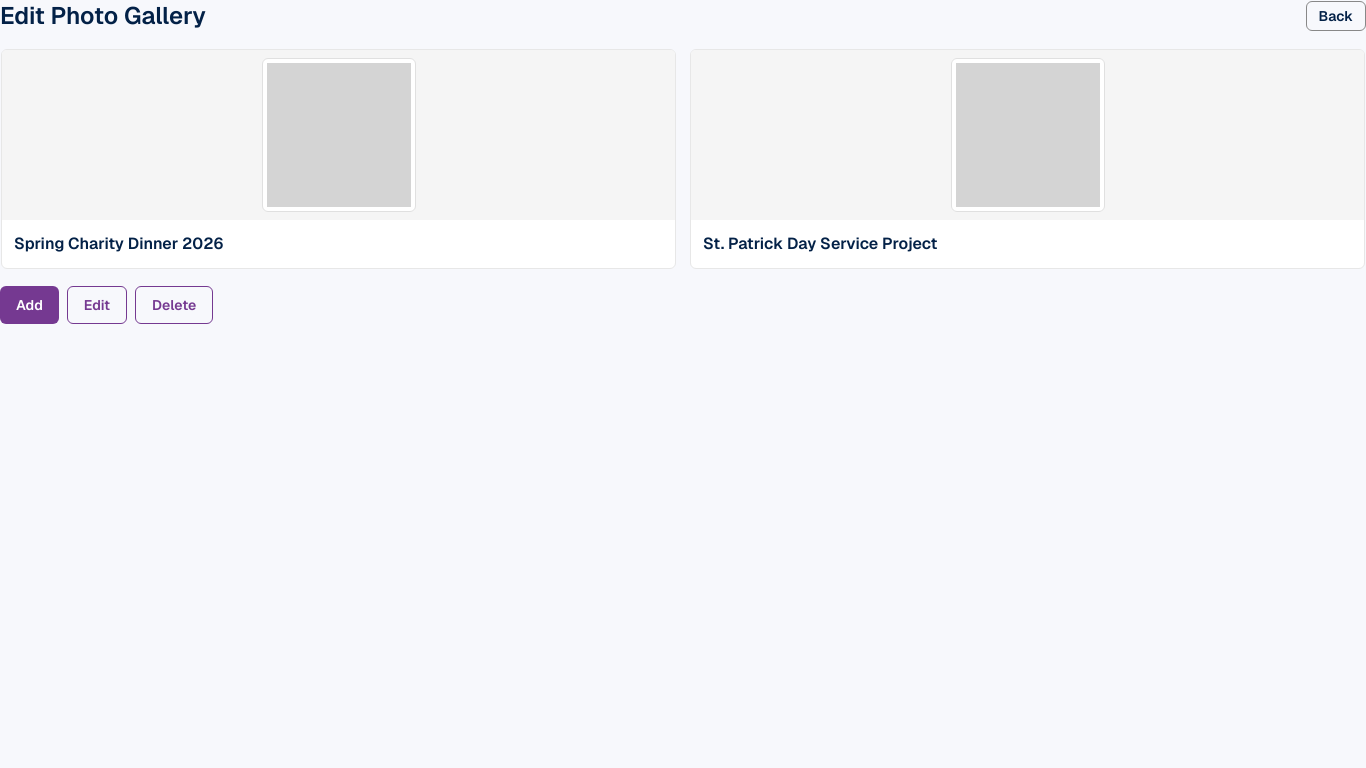
Test: PhotoGalleryUpdate › Edit pre-fills the form and saves via API
Expected: the text "Spring Charity Dinner 2026" is shown, x1=14 y1=233 x2=223 y2=254
Click the button with aria-label "Select photo Spring Charity Dinner 2026".
click(338, 159)  # box x1=0 y1=48 x2=677 y2=270
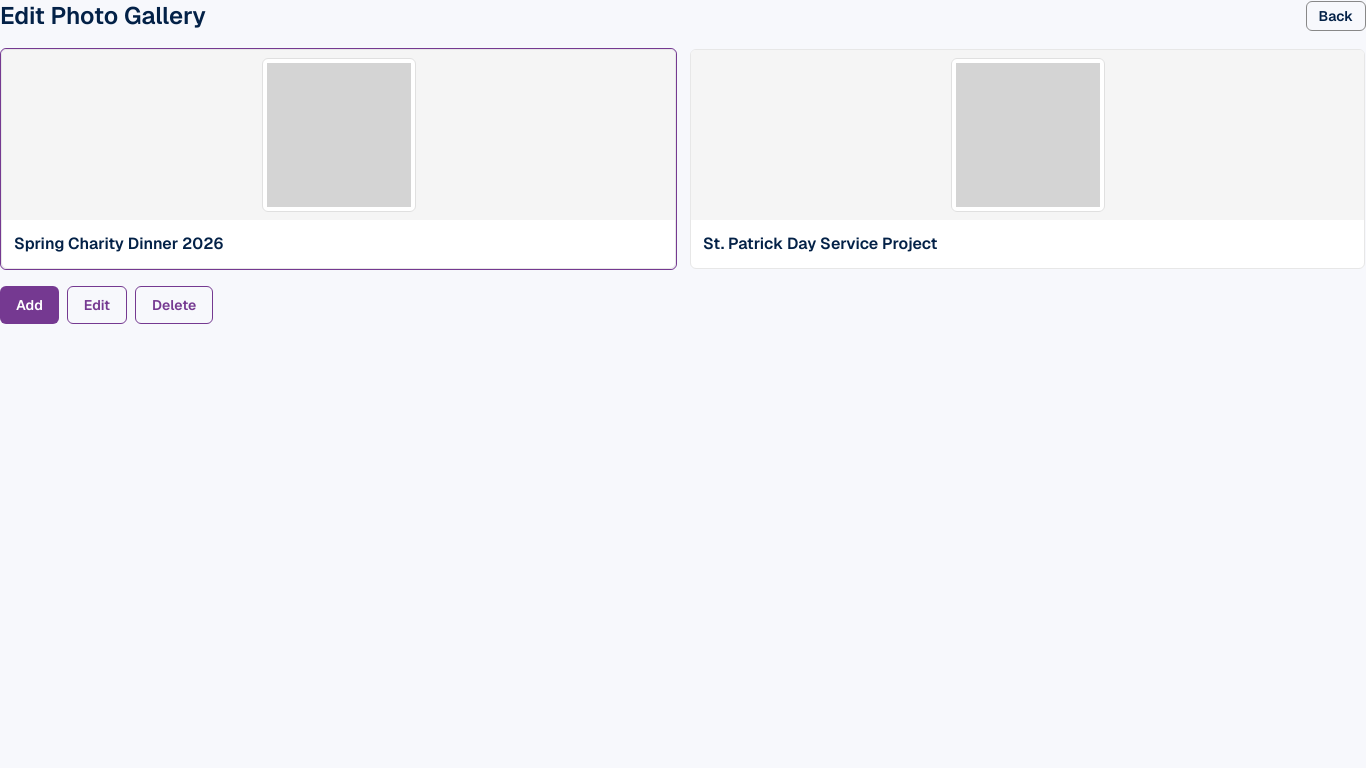
Click the button "Edit".
click(97, 305)  # box x1=67 y1=286 x2=127 y2=324
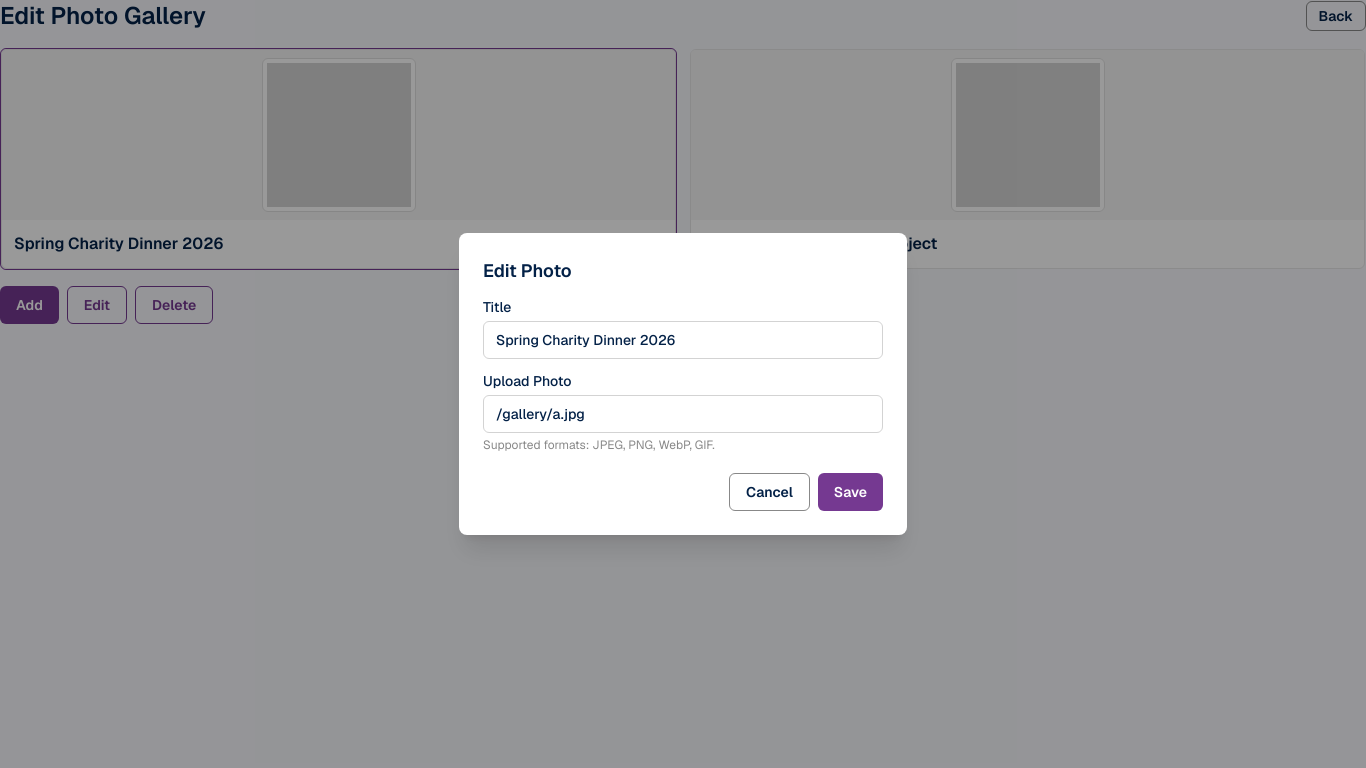
Result: the field showing "Spring Charity Dinner 2026" is shown
Replace the text in the field labelled "Title" with "Renamed Dinner" at {"x": 683, "y": 340}, box x1=483 y1=321 x2=883 y2=359
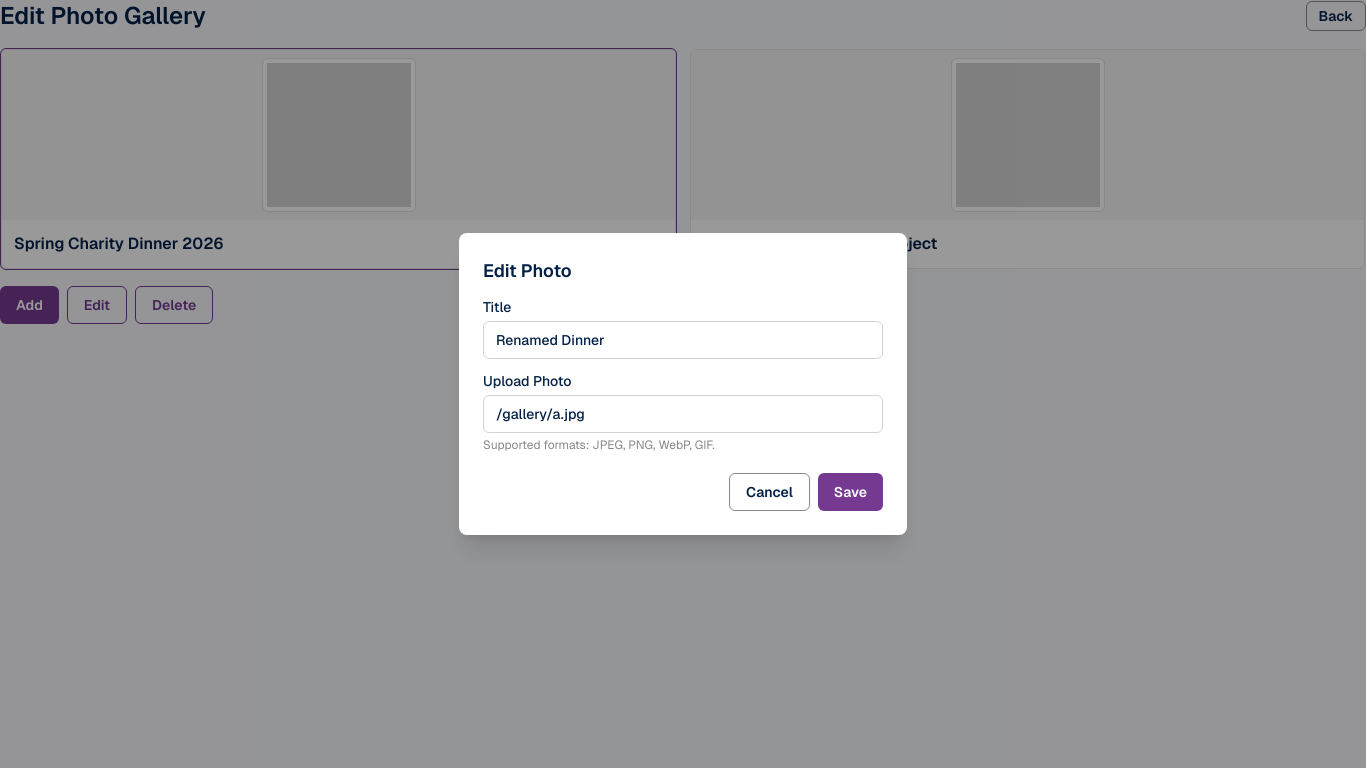
Click the button "Save".
click(850, 492)  # box x1=818 y1=473 x2=883 y2=511
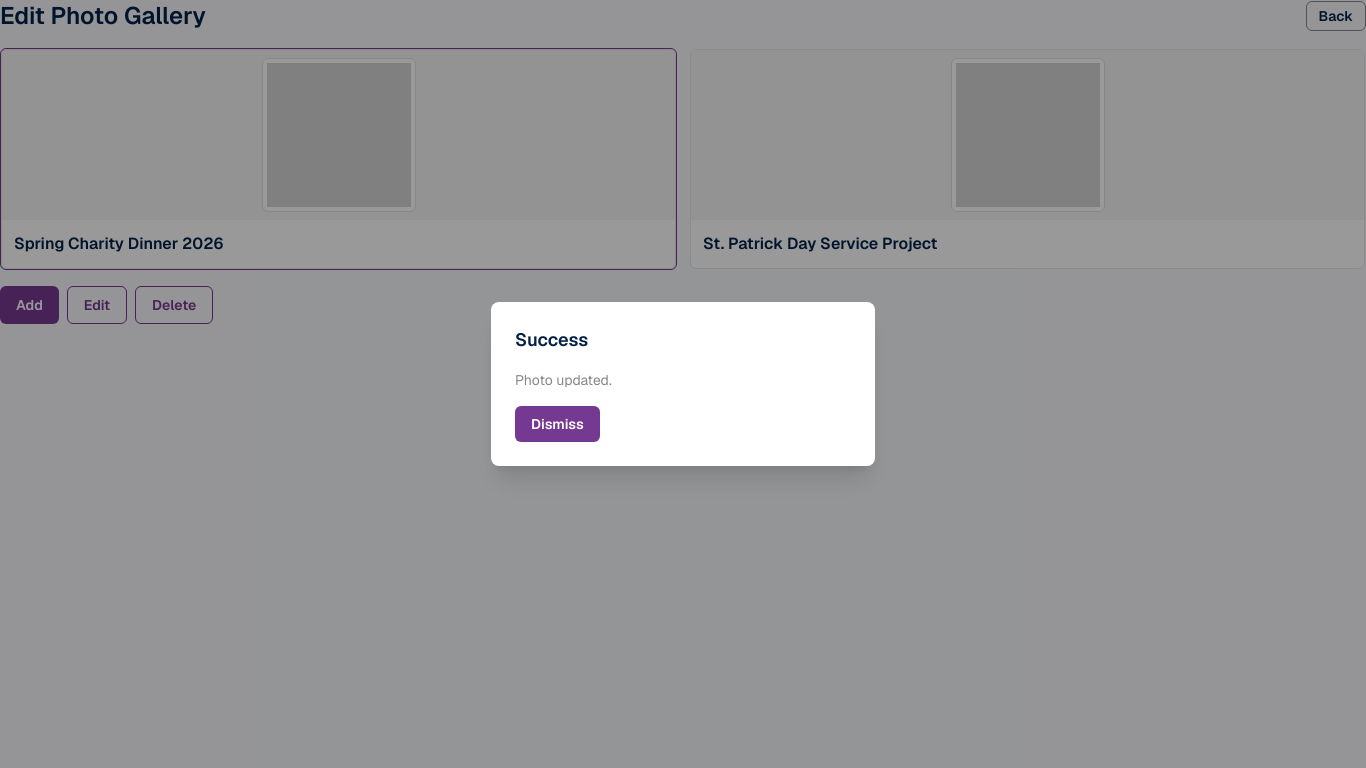
Result: the text "Photo updated." is shown at x1=515 y1=371 x2=612 y2=389
Click the button "Dismiss".
click(557, 424)  # box x1=515 y1=406 x2=600 y2=442
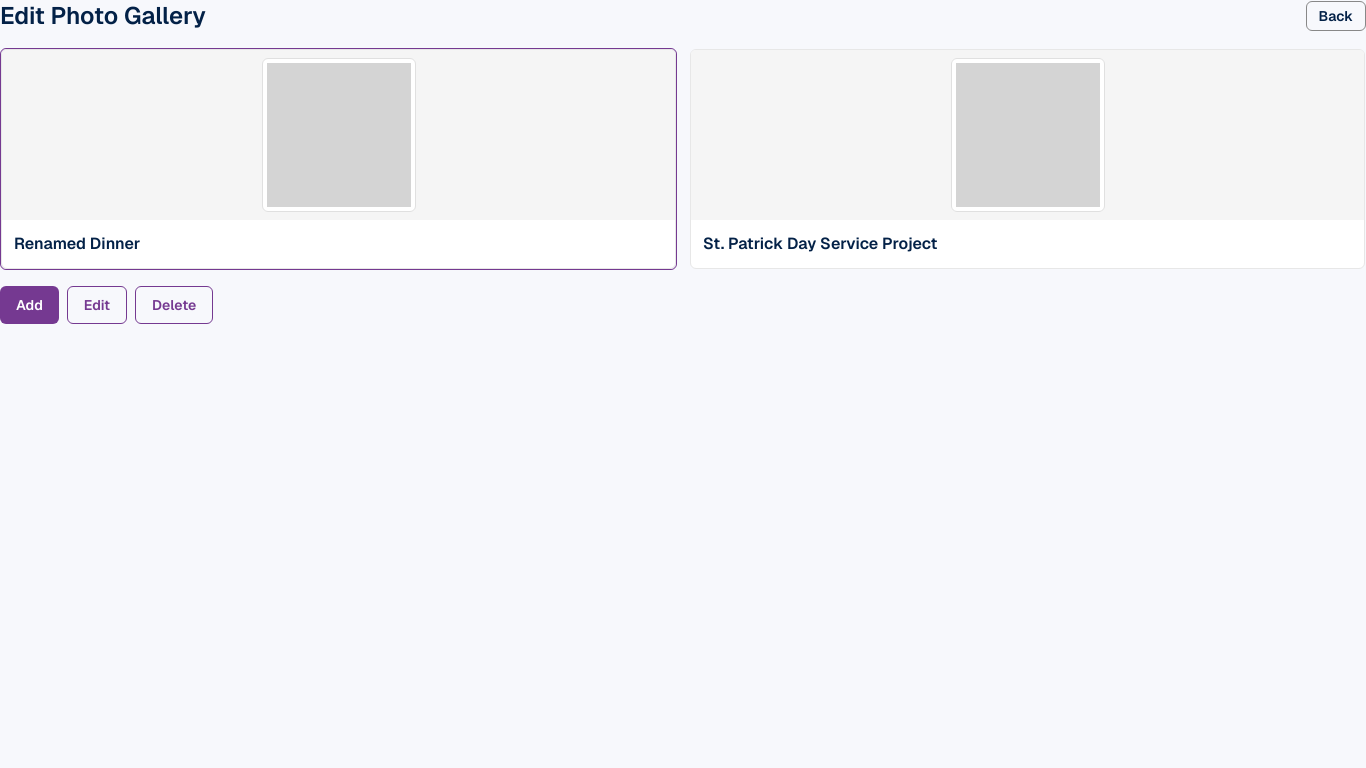
Result: the button "Spring Charity Dinner 2026" is gone
Result: the text "Renamed Dinner" is shown at x1=14 y1=233 x2=140 y2=254
